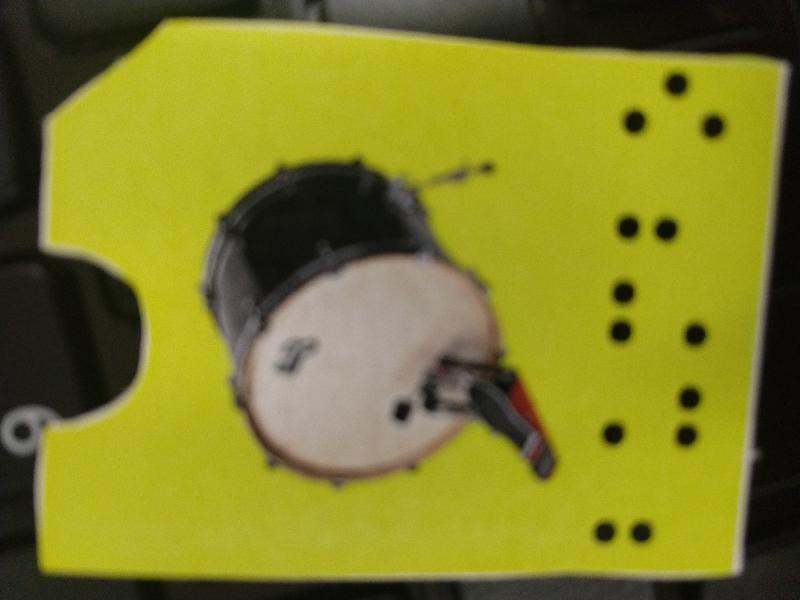bumbo: (27, 16, 790, 580)
